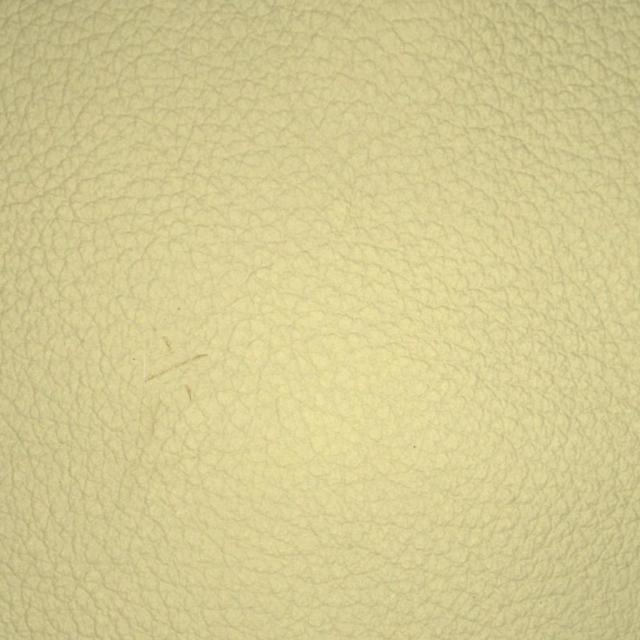Scratch: (79, 298, 279, 454)
